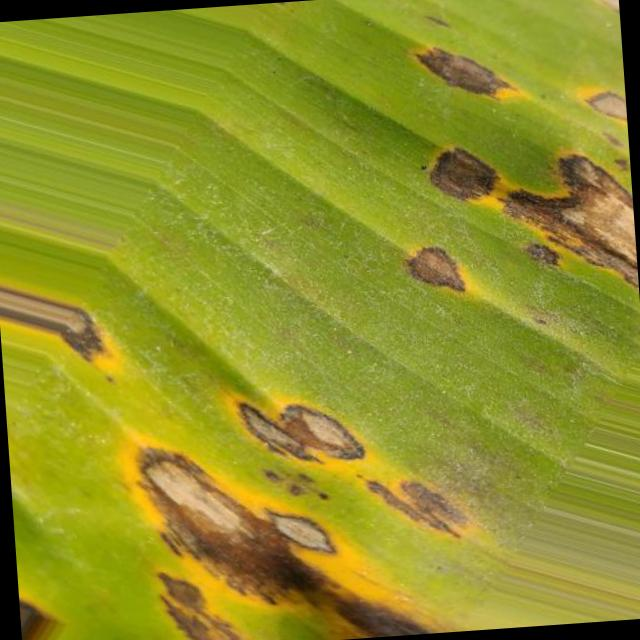Banana_Yellow_Sigatoka: (115, 393, 479, 640), (426, 125, 638, 288), (0, 249, 111, 402), (401, 17, 531, 124), (391, 233, 482, 305)
